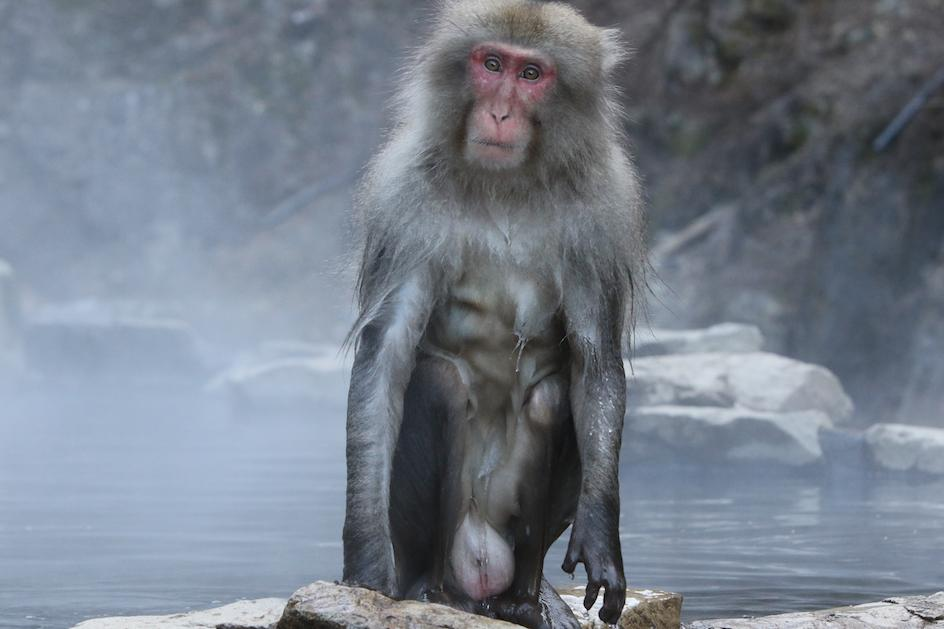monkey: (341, 3, 643, 629)
